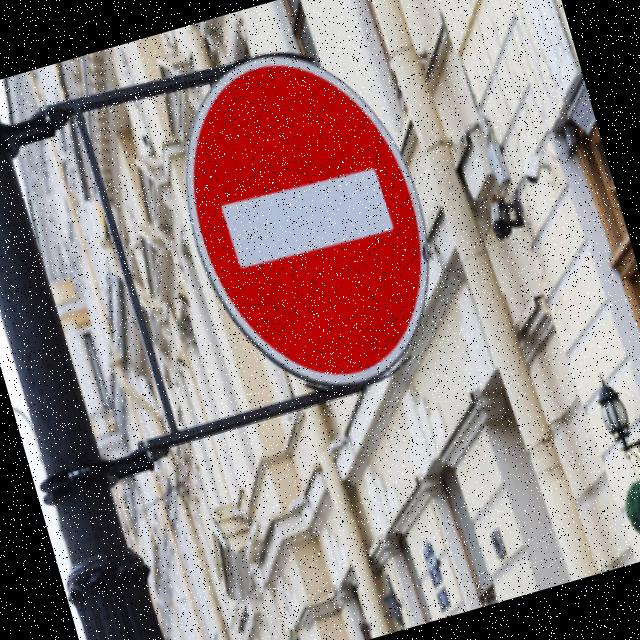do_not_enter: (143, 12, 490, 429)
